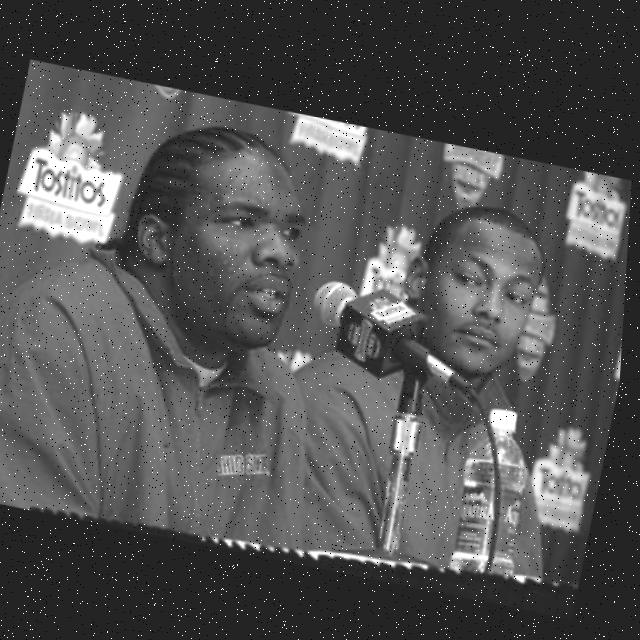face: (112, 103, 344, 354), (390, 187, 562, 389)
